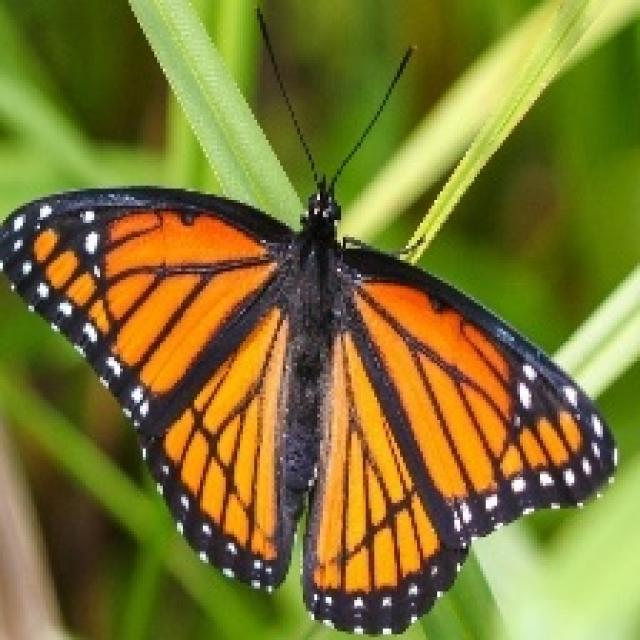butterfly: (0, 3, 617, 637)
